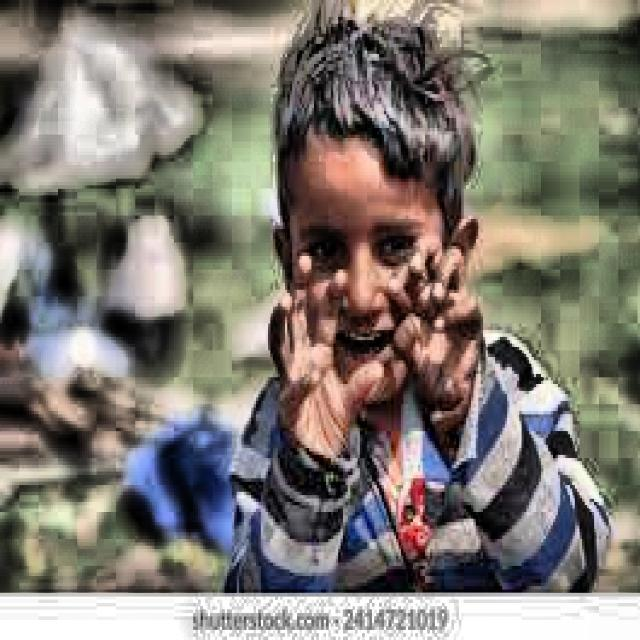Human: (209, 0, 612, 612)
